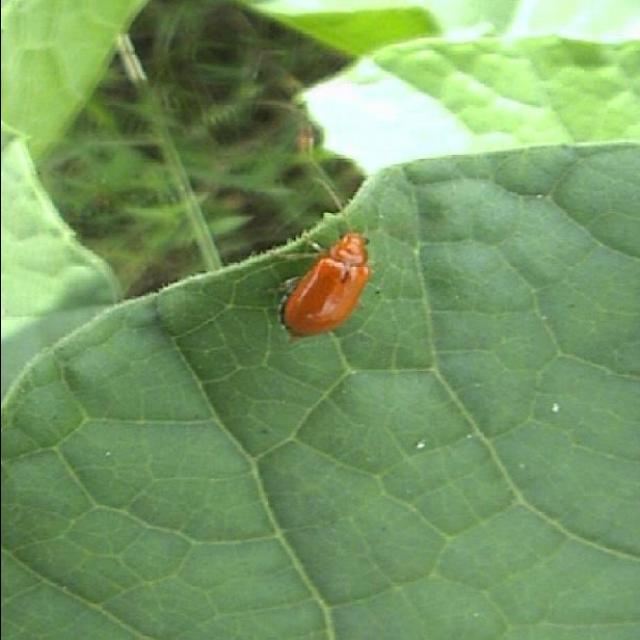Pumpkin Beetle: (250, 222, 394, 350)
